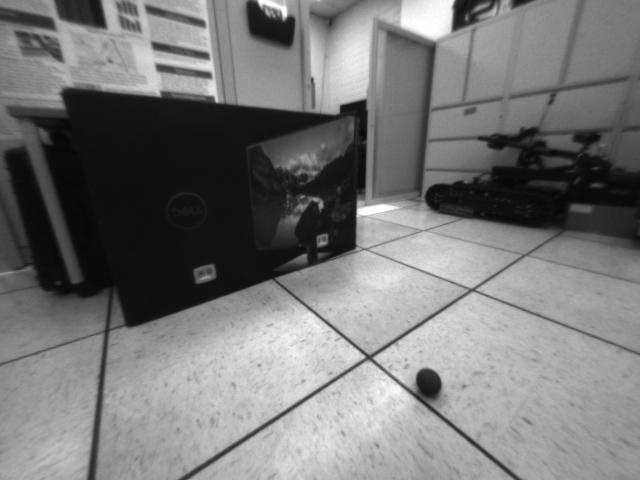dogtoy: (413, 362, 446, 401)
